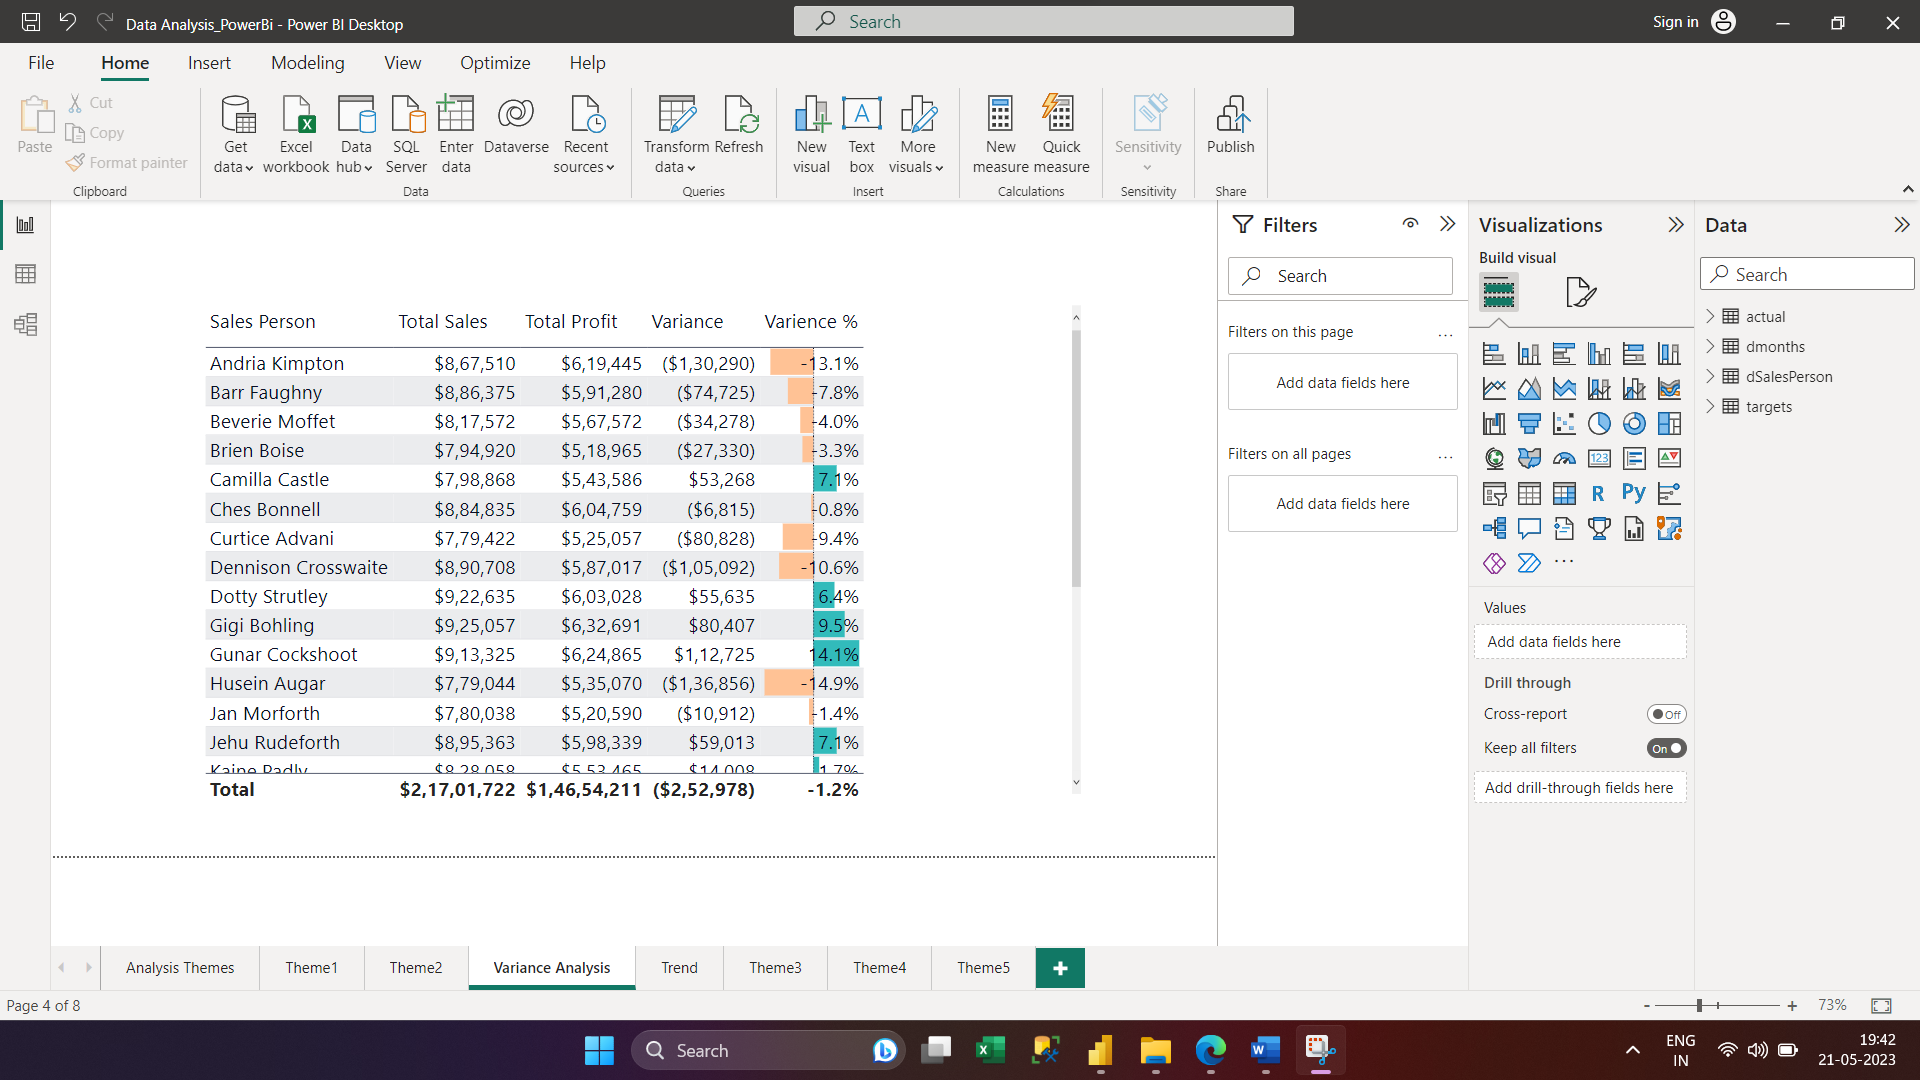

The page's visual inventory and layout, read from the dashboard file:
{"tool":"powerbi","page":{"name":"Variance Analysis","canvas":[1280,720],"ordinal":3},"visuals":[{"type":"tableEx","fields":{"Values":["dSalesPerson.Sales Person","actual.Total Sales","actual.Total Profit","actual.Variance","actual.Varience %"]},"box":[163.8,111.2,971.8,555],"z":0}]}

Visuals, with their boxes on the page's 1280x720 design canvas (x1, y1, x2, y2). These are canvas units, not pixel positions in the 1920x1080 screenshot, which may show the page scaled, cropped or inside an application window:
tableEx - dSalesPerson.Sales Person x actual.Total Sales: (164, 111, 1136, 666)
